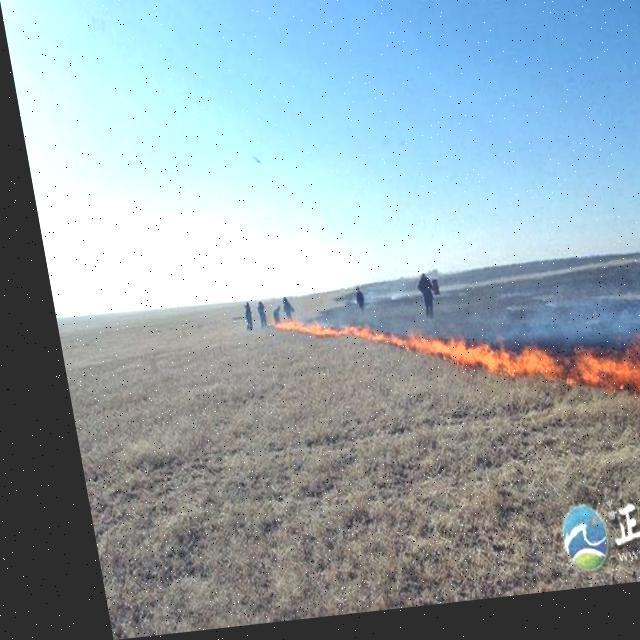Fire: (252, 277, 639, 465)
